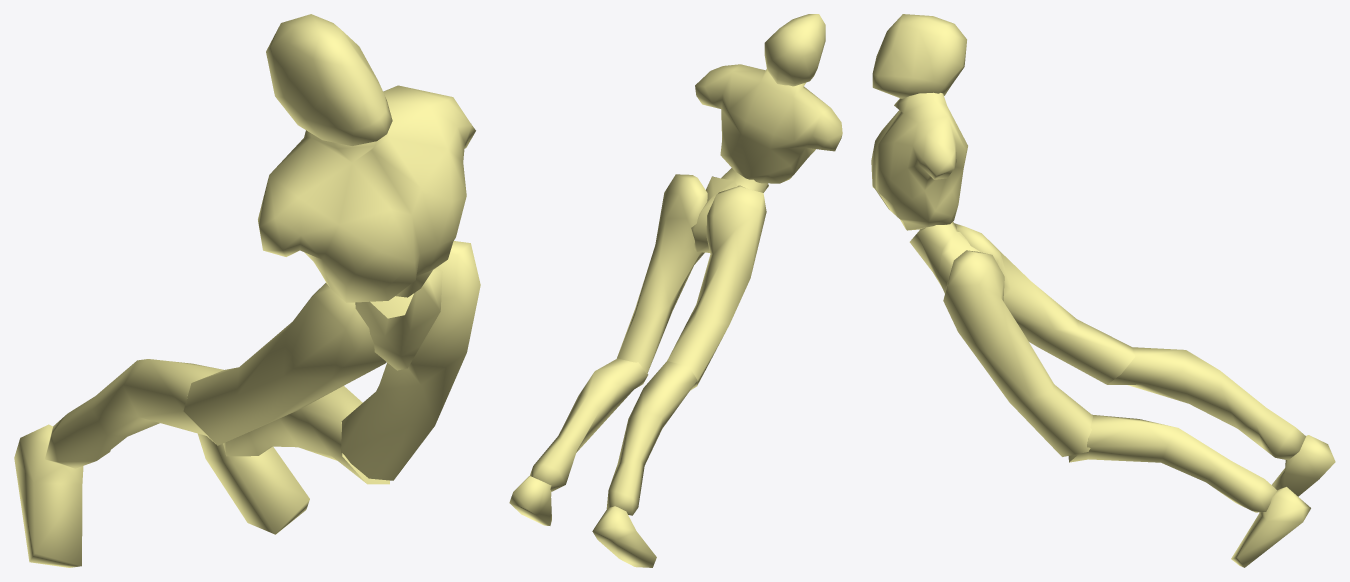
File: filth27.obj
3 views of the same model, side by side, from view 1: azimuth 30°, elevation 25°; view 2: azimuth 150°, elevation 25°; view 3: azimuth 270°, elevation 25° (orthographic). The views are drawn at different scales.
Parts seen in each view (by area): view 1: Melee_Husk; view 2: Melee_Husk; view 3: Melee_Husk.
Part boxes in pixels (bbox=[...]): Melee_Husk: bbox=[14, 14, 480, 567]; Melee_Husk: bbox=[509, 14, 842, 567]; Melee_Husk: bbox=[871, 14, 1335, 567].
Size of the model in its own units: 26.22 by 62.75 by 54.04.
